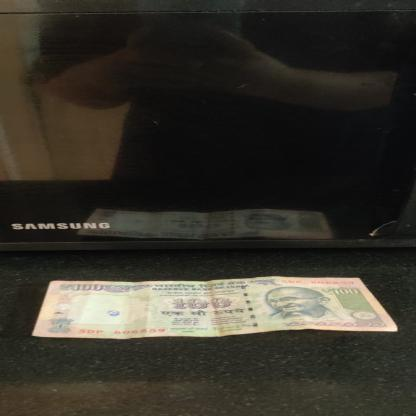Old100Front: (30, 276, 401, 340)
